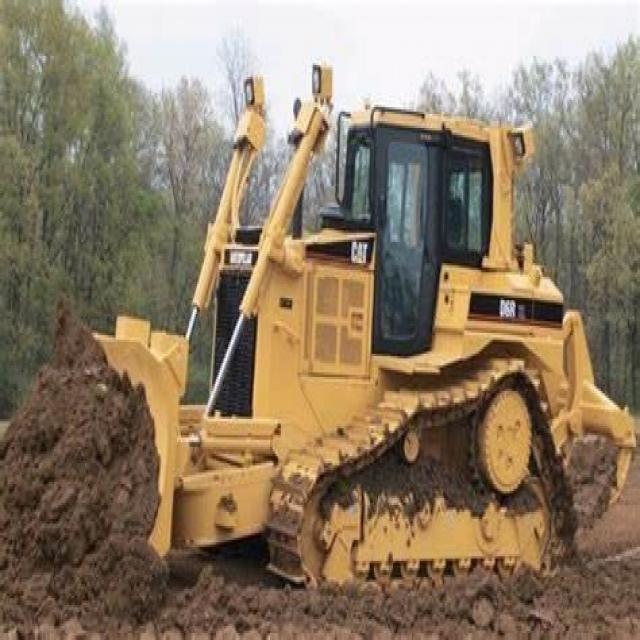Bulldozer: (76, 54, 637, 616)
